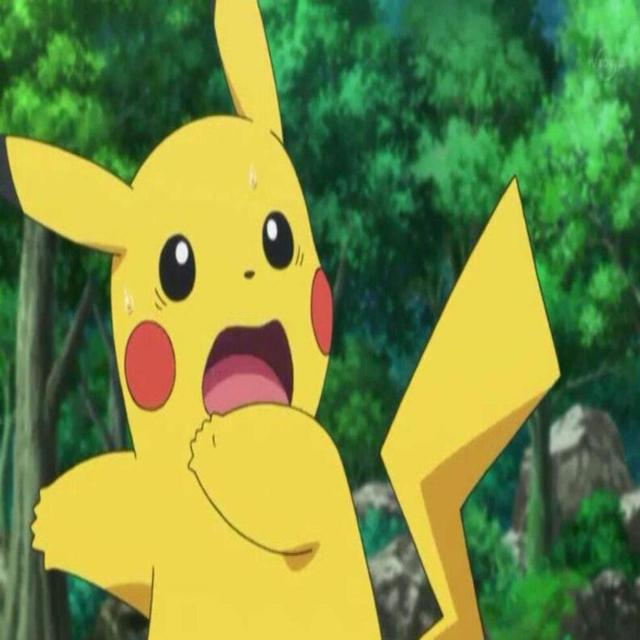pikachu: (6, 0, 560, 640)
